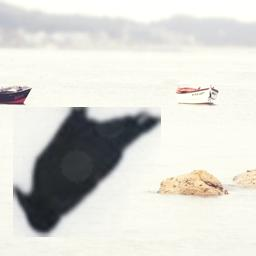Crow: (13, 107, 161, 237)
